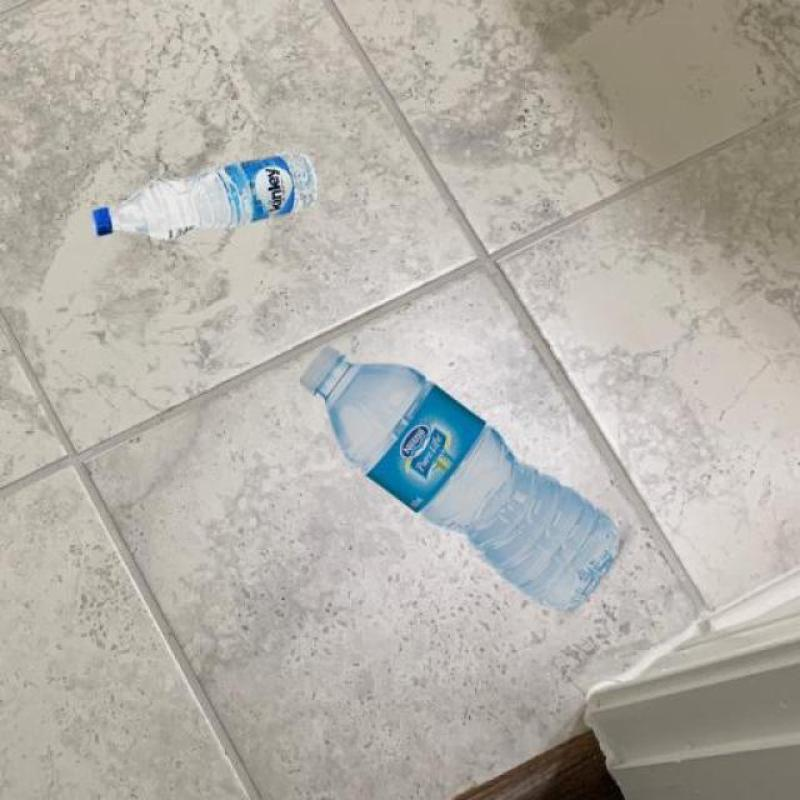botella: (300, 344, 624, 614), (92, 157, 318, 242)
